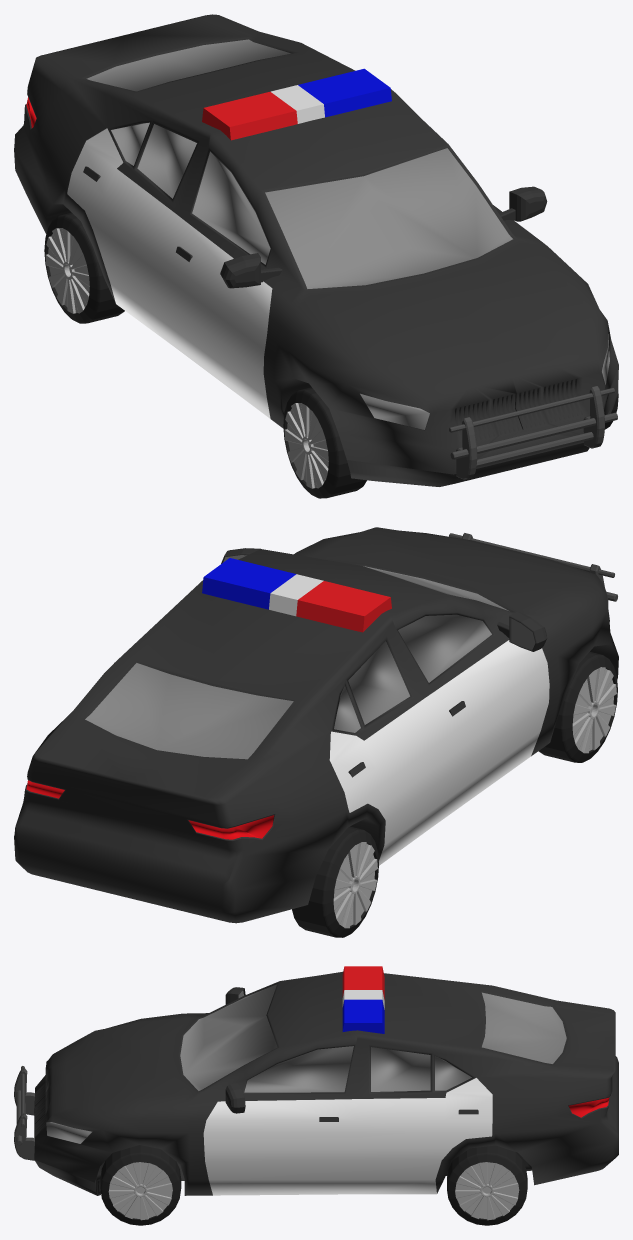
Rendered from Police Car.fbx.
3 views of the same model, one above another, from view 1: azimuth 30°, elevation 25°; view 2: azimuth 150°, elevation 25°; view 3: azimuth 270°, elevation 25° (orthographic). The views are drawn at different scales.
Visible parts, largest first — view 1: Police Car, Wheel FR, Wheel BR; view 2: Police Car, Wheel BR, Wheel FR; view 3: Police Car, Wheel FL, Wheel BL.
Boxes of the visible parts, x1=… form: Police Car: x1=14, y1=14, x2=618, y2=486; Wheel FR: x1=283, y1=387, x2=366, y2=498; Wheel BR: x1=44, y1=212, x2=124, y2=323; Police Car: x1=14, y1=527, x2=618, y2=923; Wheel BR: x1=292, y1=826, x2=378, y2=937; Wheel FR: x1=538, y1=652, x2=617, y2=762; Police Car: x1=14, y1=966, x2=618, y2=1195; Wheel FL: x1=100, y1=1145, x2=181, y2=1225; Wheel BL: x1=447, y1=1145, x2=527, y2=1225.
Size of the model in its own units: 1.9 by 1.41 by 4.26.
